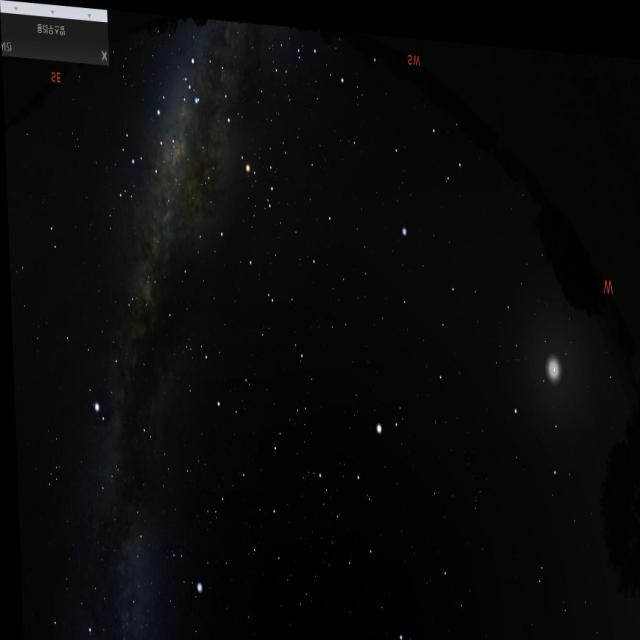aquila: (76, 278, 160, 452)
bootes: (313, 368, 416, 584)
lyra: (159, 537, 207, 595)
moon: (531, 321, 575, 398)
sagittarius: (96, 80, 186, 206)
scorpius: (180, 47, 280, 205)
